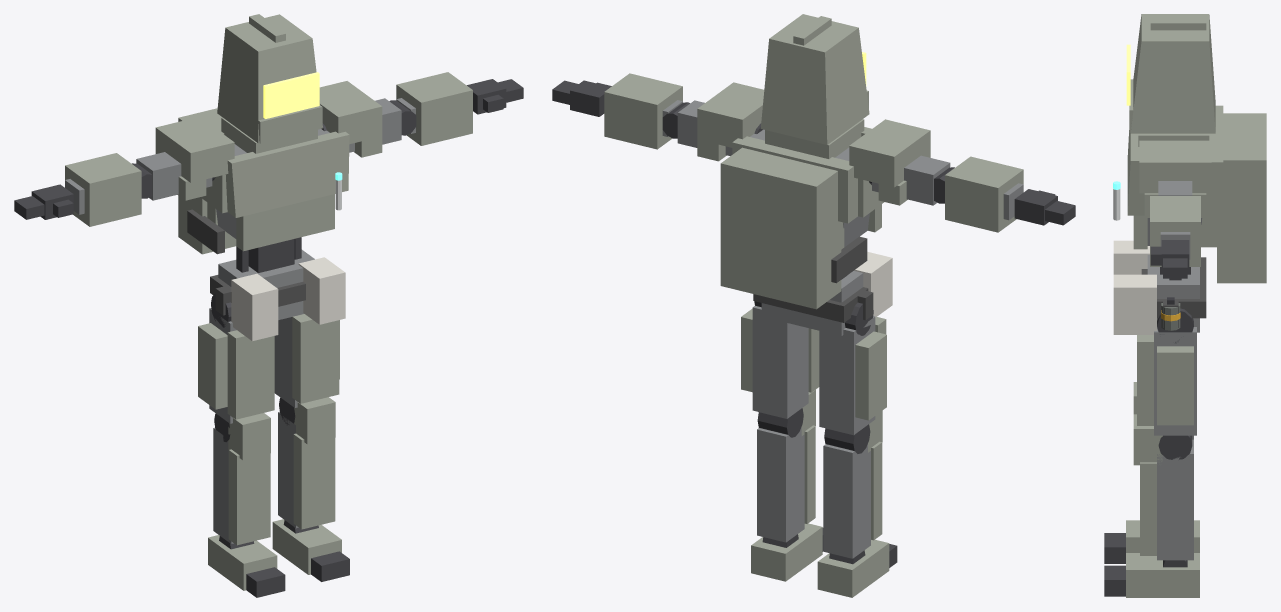
Rendered from char_F1_heavy.glb.
The picture shows the model from 3 angles, left to right: view 1: azimuth 30°, elevation 25°; view 2: azimuth 150°, elevation 25°; view 3: azimuth 270°, elevation 25°; orthographic projection. The views are drawn at different scales.
Parts seen in each view (by area): view 1: UpperChest_mesh, Head_mesh, LeftLowerLeg_mesh, RightLowerLeg_mesh, RightUpperLeg_mesh, RightUpperArm_mesh, LeftUpperLeg_mesh, RightLowerArm_mesh, LeftLowerArm_mesh, LeftUpperArm_mesh, Chest_mesh, Hips_mesh (+9 smaller); view 2: UpperChest_mesh, Head_mesh, RightLowerLeg_mesh, LeftLowerLeg_mesh, RightUpperLeg_mesh, LeftUpperLeg_mesh, RightUpperArm_mesh, RightLowerArm_mesh, LeftLowerArm_mesh, LeftUpperArm_mesh, Hips_mesh, RightFoot_mesh (+5 smaller); view 3: UpperChest_mesh, Head_mesh, LeftLowerLeg_mesh, LeftUpperLeg_mesh, LeftUpperArm_mesh, LeftFoot_mesh, LeftLowerArm_mesh, Slot_MagSlot_5, Hips_mesh, LeftHand_mesh, Chest_mesh, Slot_MagSlot_6 (+5 smaller).
Boxes of the visible parts, x1=… form: UpperChest_mesh: x1=178, y1=108, x2=349, y2=254; Head_mesh: x1=217, y1=14, x2=322, y2=143; LeftLowerLeg_mesh: x1=278, y1=397, x2=335, y2=529; RightLowerLeg_mesh: x1=213, y1=413, x2=270, y2=545; RightUpperLeg_mesh: x1=198, y1=293, x2=274, y2=423; RightUpperArm_mesh: x1=136, y1=117, x2=234, y2=200; LeftUpperLeg_mesh: x1=274, y1=314, x2=339, y2=407; RightLowerArm_mesh: x1=65, y1=153, x2=152, y2=226; LeftLowerArm_mesh: x1=389, y1=72, x2=472, y2=145; LeftUpperArm_mesh: x1=319, y1=81, x2=401, y2=157; Chest_mesh: x1=207, y1=194, x2=334, y2=251; Hips_mesh: x1=210, y1=249, x2=314, y2=319; UpperChest_mesh: x1=720, y1=119, x2=884, y2=309; Head_mesh: x1=760, y1=14, x2=869, y2=144; RightLowerLeg_mesh: x1=823, y1=410, x2=882, y2=558; LeftLowerLeg_mesh: x1=757, y1=389, x2=815, y2=542; RightUpperLeg_mesh: x1=819, y1=302, x2=886, y2=434; LeftUpperLeg_mesh: x1=741, y1=301, x2=819, y2=418; RightUpperArm_mesh: x1=849, y1=119, x2=950, y2=205; RightLowerArm_mesh: x1=934, y1=156, x2=1023, y2=232; LeftLowerArm_mesh: x1=604, y1=73, x2=689, y2=149; LeftUpperArm_mesh: x1=677, y1=82, x2=764, y2=161; Hips_mesh: x1=753, y1=271, x2=873, y2=335; RightFoot_mesh: x1=817, y1=539, x2=889, y2=597; UpperChest_mesh: x1=1127, y1=105, x2=1266, y2=283; Head_mesh: x1=1126, y1=14, x2=1215, y2=133; LeftLowerLeg_mesh: x1=1133, y1=414, x2=1193, y2=560; LeftUpperLeg_mesh: x1=1137, y1=308, x2=1196, y2=435; LeftUpperArm_mesh: x1=1139, y1=140, x2=1211, y2=214; LeftFoot_mesh: x1=1126, y1=553, x2=1199, y2=597; LeftLowerArm_mesh: x1=1150, y1=196, x2=1200, y2=266; Slot_MagSlot_5: x1=1113, y1=274, x2=1156, y2=334; Hips_mesh: x1=1141, y1=255, x2=1206, y2=332; LeftHand_mesh: x1=1150, y1=240, x2=1189, y2=278; Chest_mesh: x1=1133, y1=215, x2=1216, y2=249; Slot_MagSlot_6: x1=1113, y1=240, x2=1149, y2=274.
Size of the model in its own units: 1.92 by 1.97 by 0.525.
